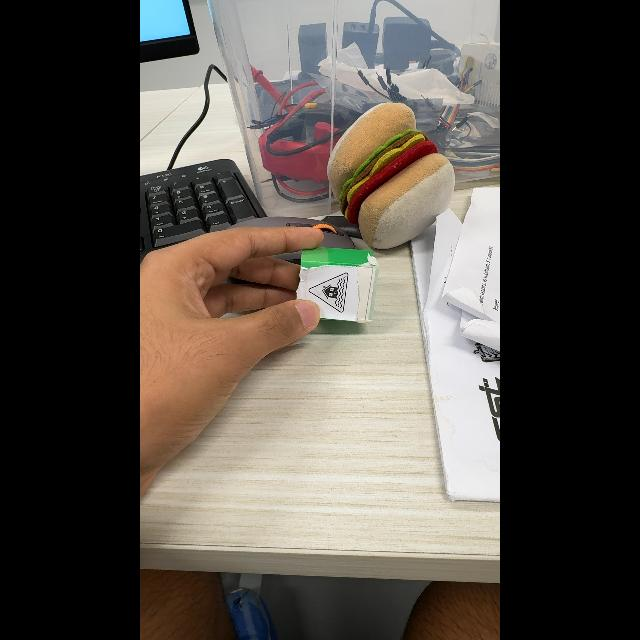Tsunami: (310, 273, 348, 312)
